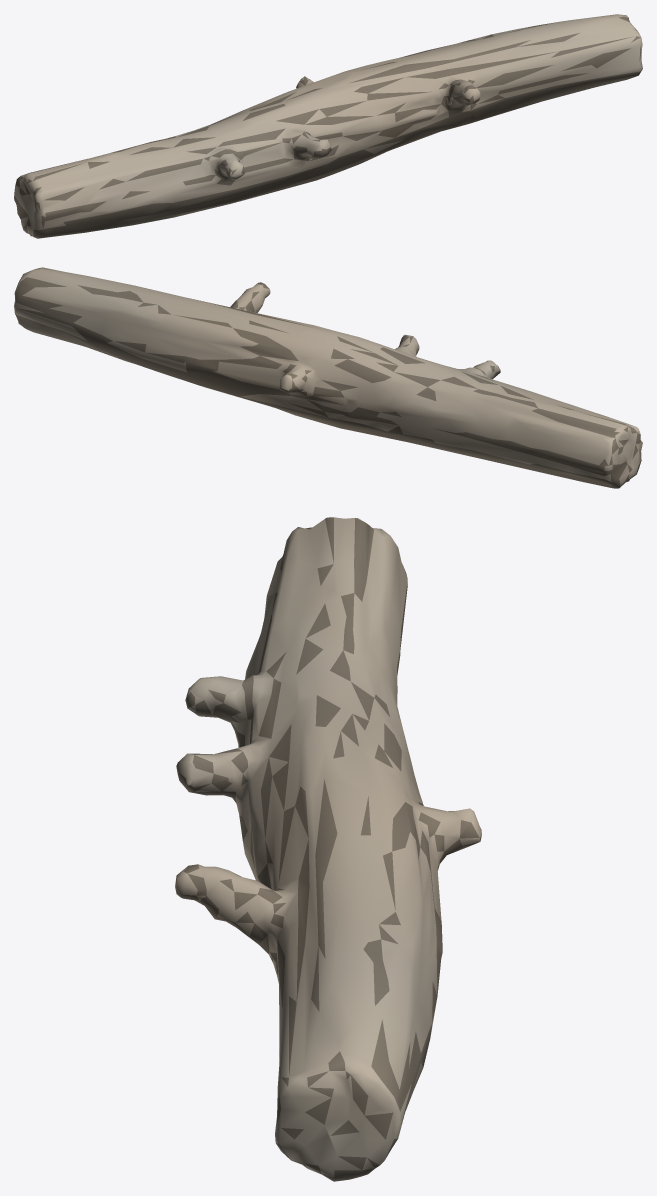
File: shore_driftwood_lod1.glb
The picture shows the model from 3 angles, top to bottom: view 1: azimuth 30°, elevation 25°; view 2: azimuth 150°, elevation 25°; view 3: azimuth 270°, elevation 25°; orthographic projection. The views are drawn at different scales.
Parts seen in each view (by area): view 1: shore_driftwood.001; view 2: shore_driftwood.001; view 3: shore_driftwood.001.
Boxes of the visible parts, x1,y1,x2,y2 form: shore_driftwood.001: (14,14,642,238); shore_driftwood.001: (14,267,642,488); shore_driftwood.001: (175,517,481,1181).
Bounding box in the file's own units: 22.2 × 3.03 × 4.89.
